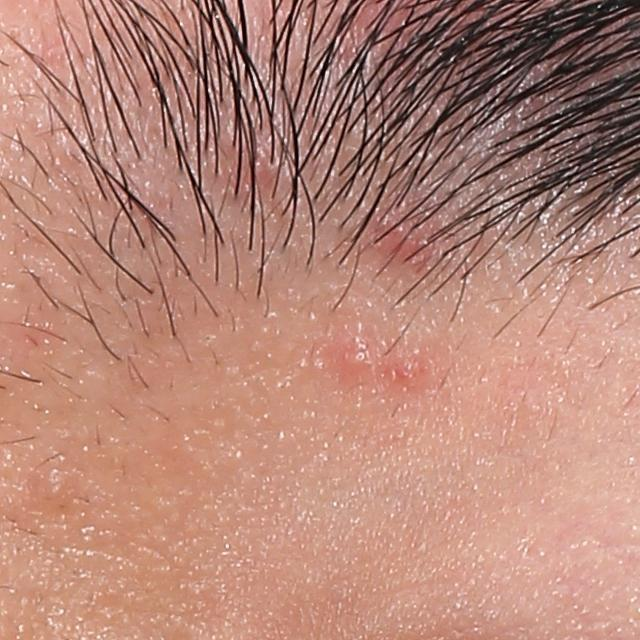comedo: (42, 468, 71, 501)
papule: (311, 324, 430, 396), (377, 204, 441, 277)
